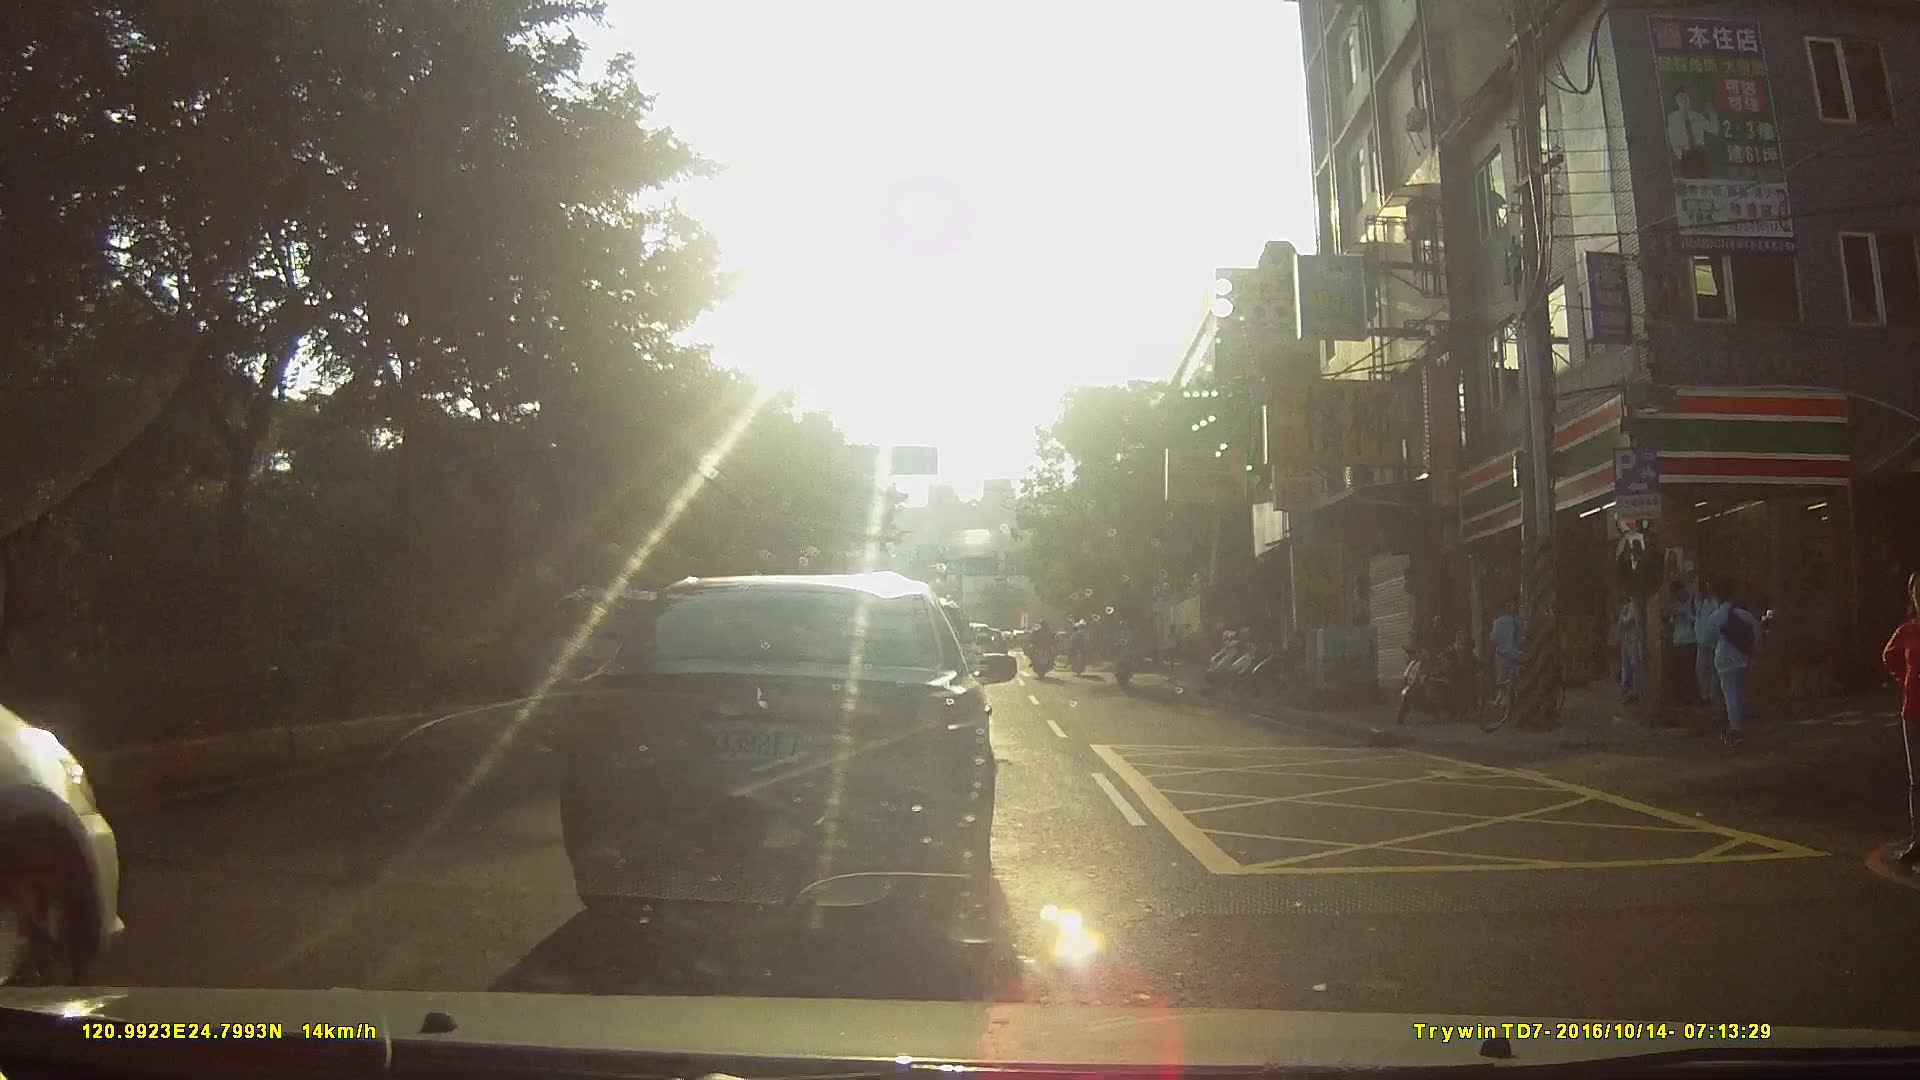pedestrian: (1694, 582, 1770, 753), (1887, 567, 1920, 854), (1666, 569, 1703, 709), (1618, 583, 1655, 708), (1491, 597, 1531, 710)
rider: (1066, 620, 1096, 681), (1028, 617, 1058, 680), (1115, 619, 1139, 689)
vehicle: (541, 568, 1025, 956), (0, 567, 236, 991)
